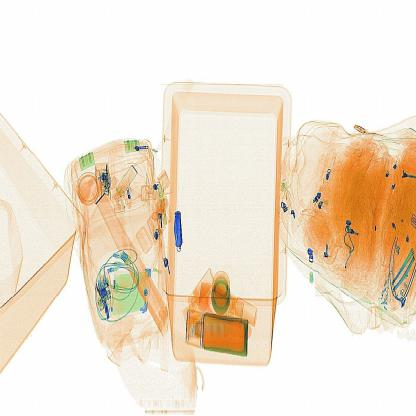knife: (168, 206, 191, 258)
